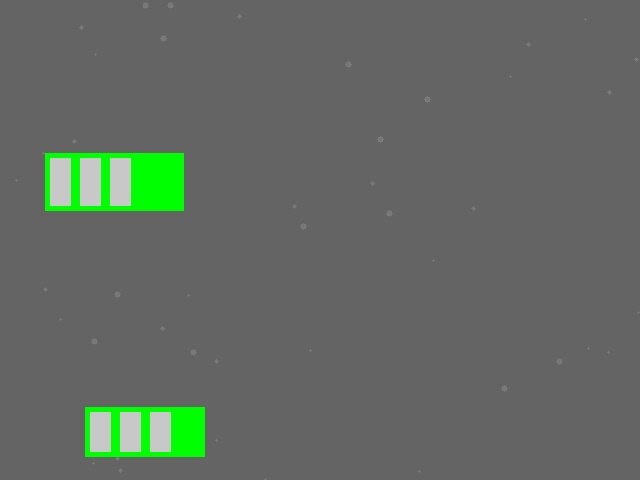bus: (45, 153, 183, 210), (85, 407, 204, 456)
